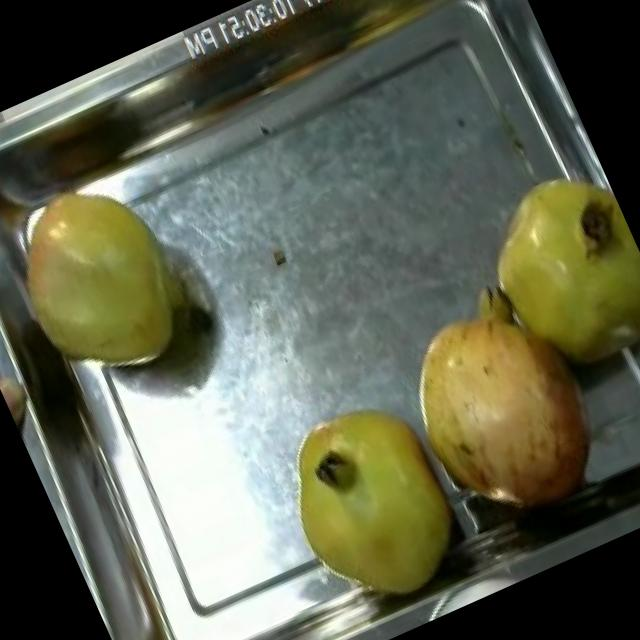fruit: (362, 260, 640, 562), (247, 367, 492, 634), (0, 144, 223, 414), (443, 143, 640, 415)
